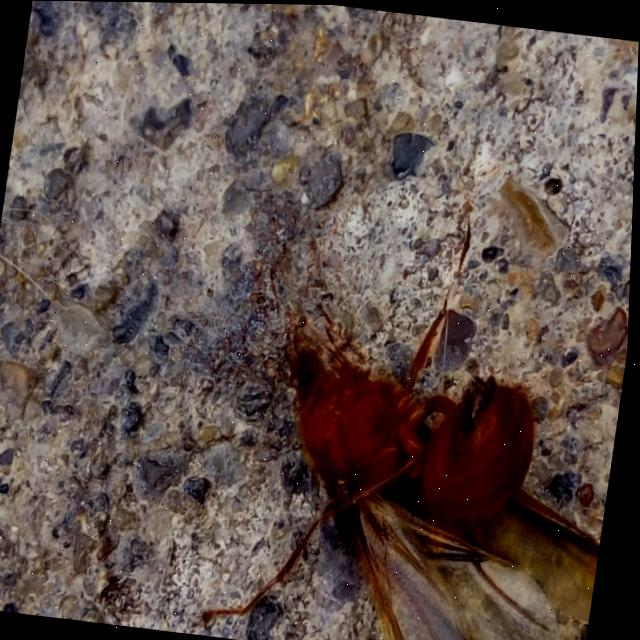Alive-Male-Alate: (202, 256, 633, 640)
